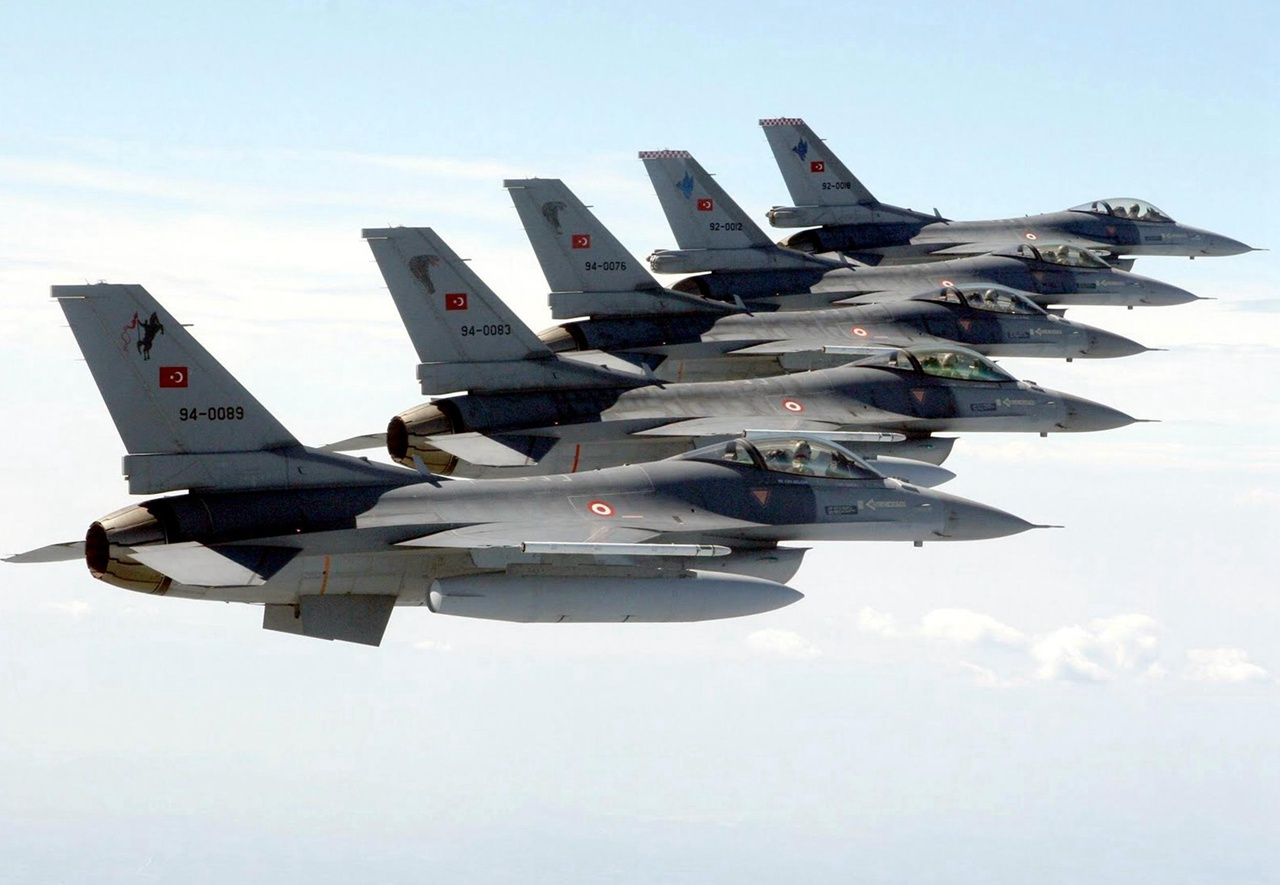airplane: (32, 229, 1067, 633), (352, 189, 1167, 470), (484, 175, 1177, 365), (592, 144, 1218, 326), (700, 96, 1268, 265)
